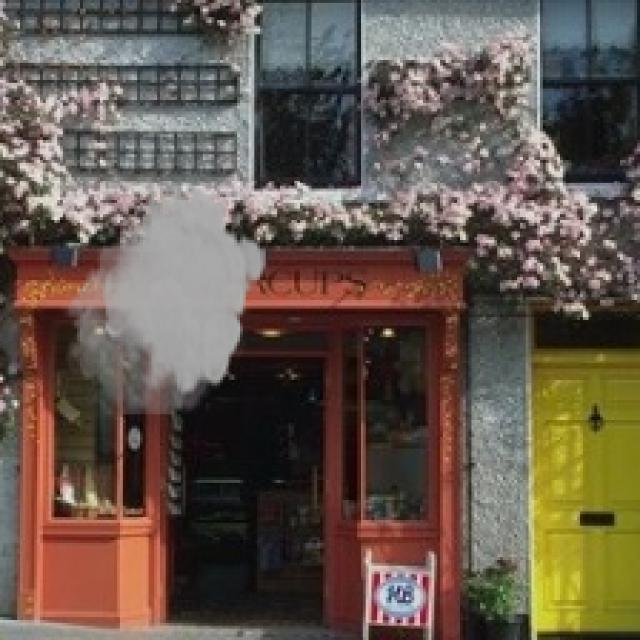Smoke: (60, 183, 266, 414)
